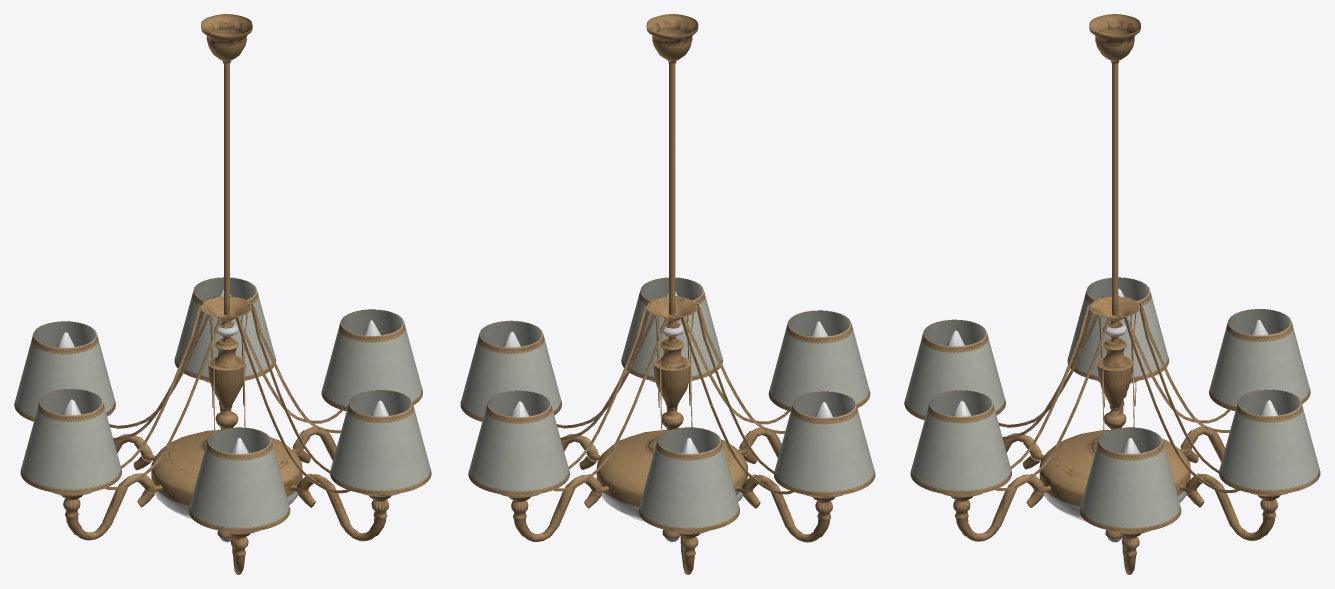
The model's file is chandelier.glb.
The picture shows the model from 3 angles, left to right: view 1: azimuth 30°, elevation 25°; view 2: azimuth 150°, elevation 25°; view 3: azimuth 270°, elevation 25°; orthographic projection.
Parts seen in each view (by area): view 1: Chandelier_02; view 2: Chandelier_02; view 3: Chandelier_02.
Part boxes in pixels (<box>): Chandelier_02: <box>14,14,431,574</box>; Chandelier_02: <box>460,14,875,574</box>; Chandelier_02: <box>904,14,1320,574</box>.
Size of the model in its own units: 0.679 by 0.8481 by 0.619.
Materials: 2 (1 with a texture image).
